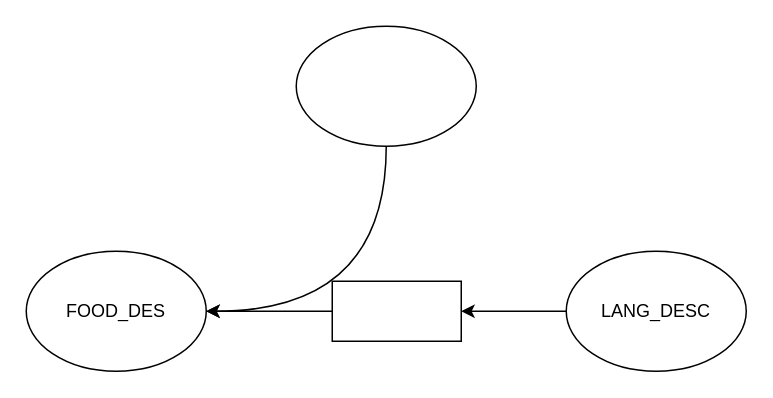
Some shapes in this 773 by 398 pixel diagram are drawn without their labels. The shapes that lost their labels are listed below. From the top down, each one's centre as x and y in pixels, then its label:
At [385,85]: "FD_GROUP".
At [396,310]: "LANGUAL".
